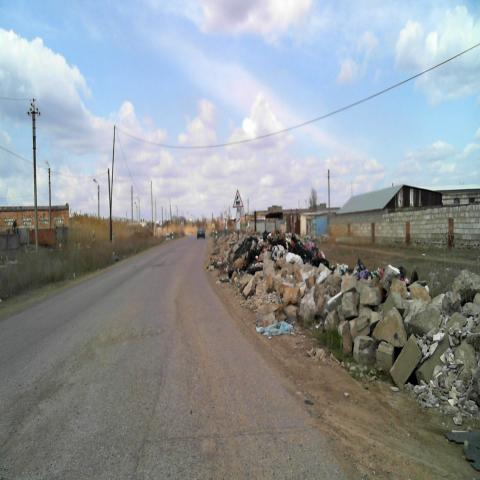1_2: (232, 188, 244, 208)
